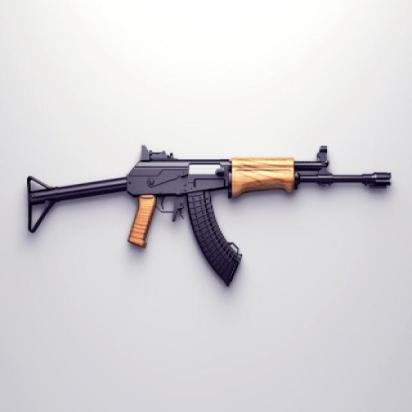Gun: (17, 134, 395, 288)
